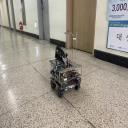cart: (49, 59, 81, 98)
